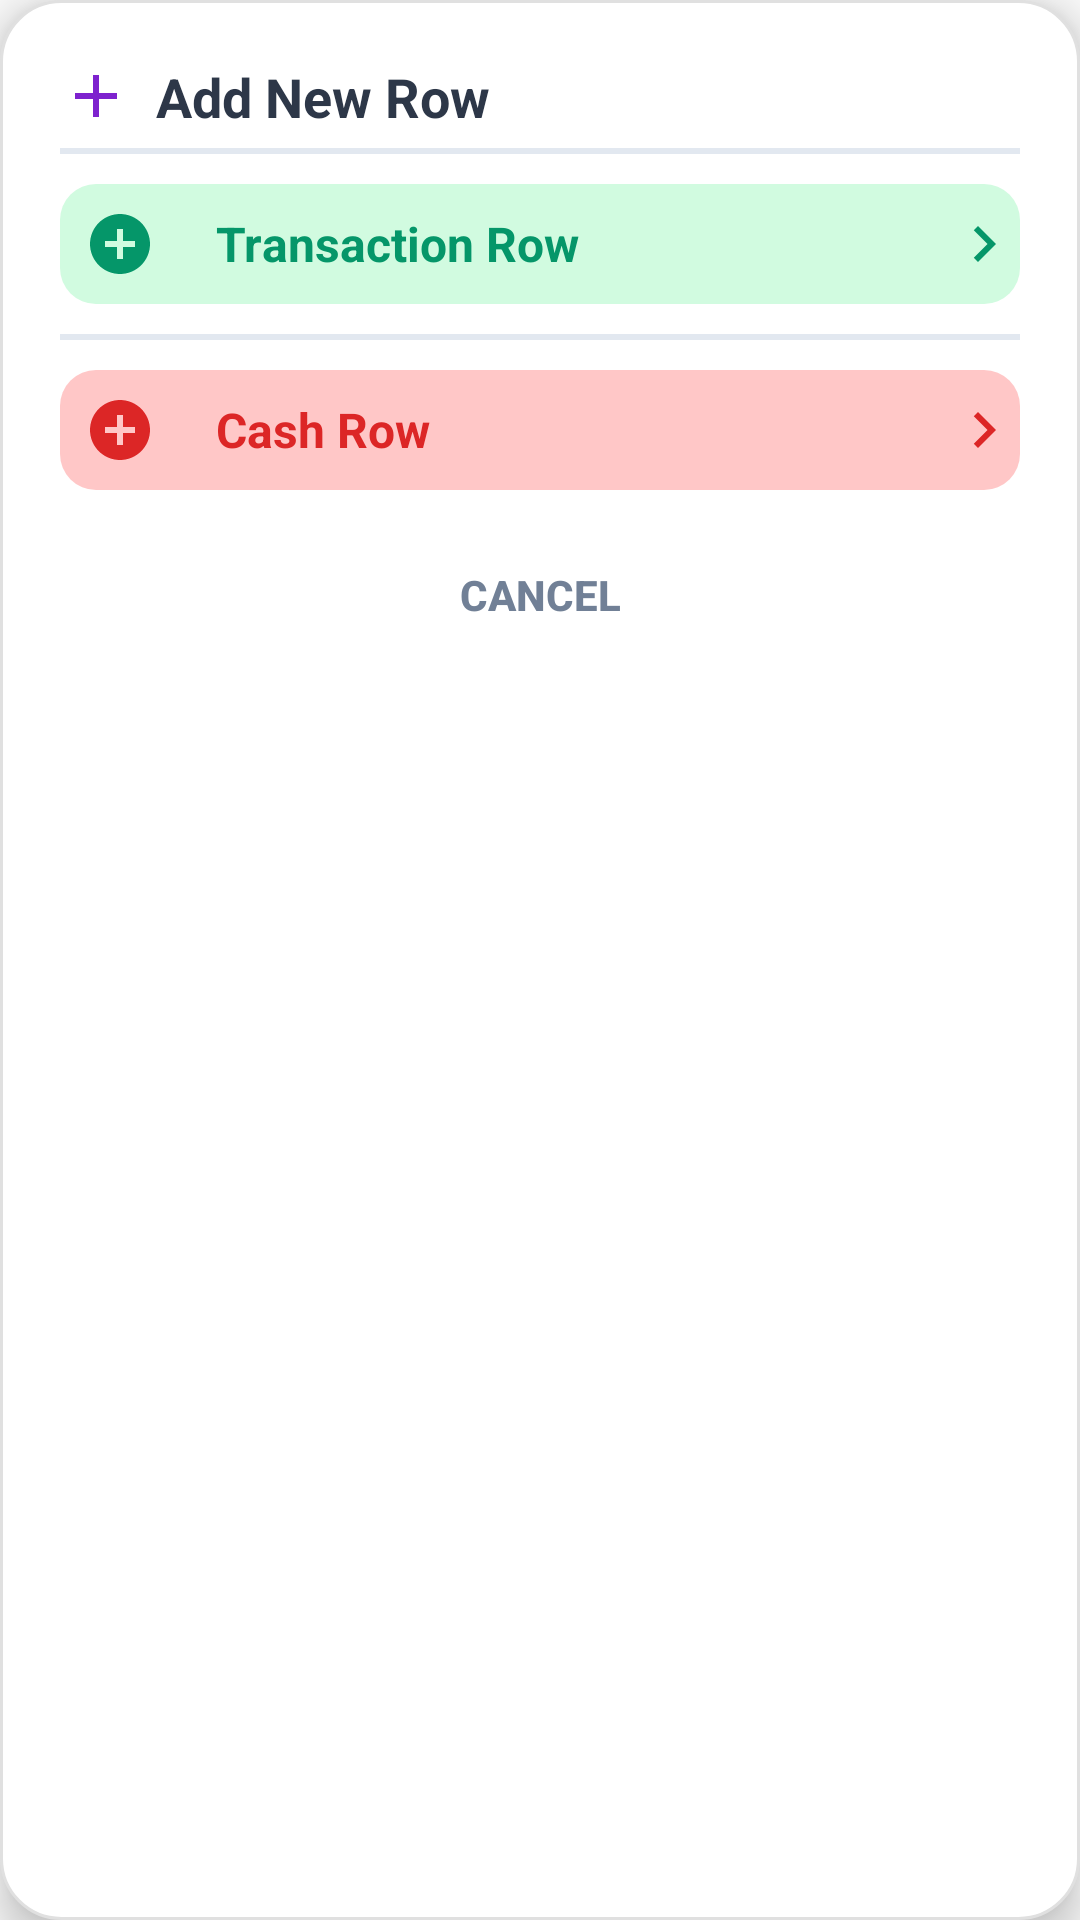

Screen size 1080×1920. Icon name, then its center in pixels as (x=x, y=y):
chevron right: (x=985, y=244), (x=985, y=430)
